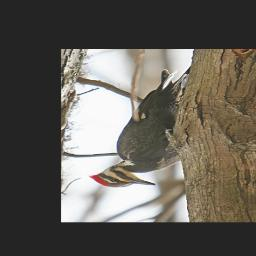Woodpecker: (88, 65, 193, 188)
